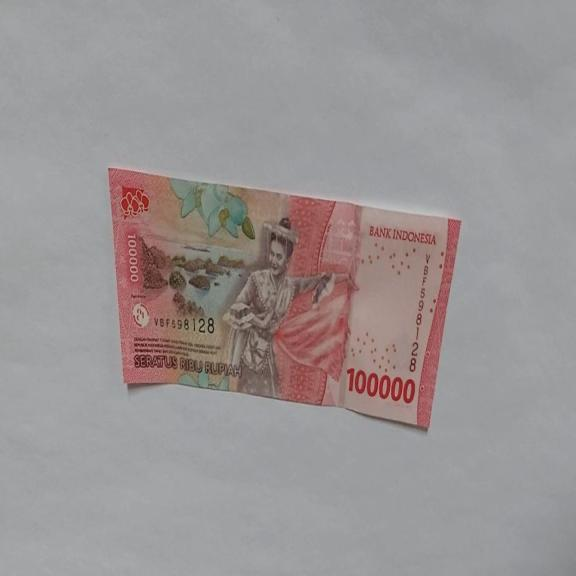Kertas: (107, 165, 462, 431), (346, 366, 416, 404)
